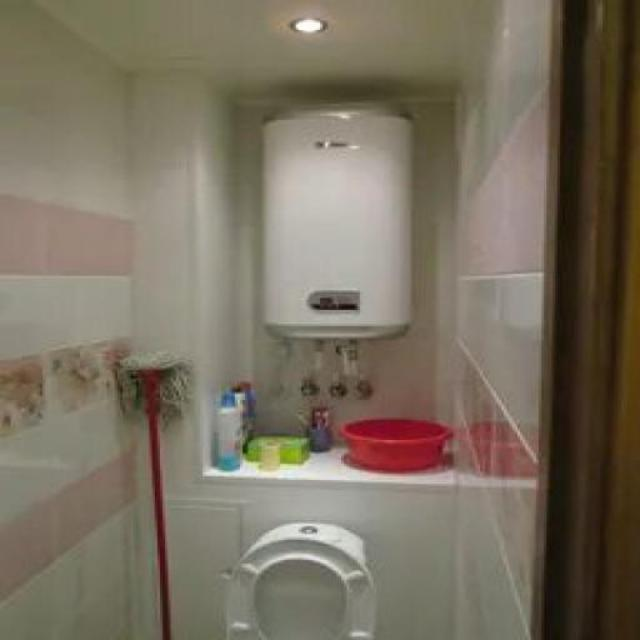Boiler: (258, 105, 410, 352)
